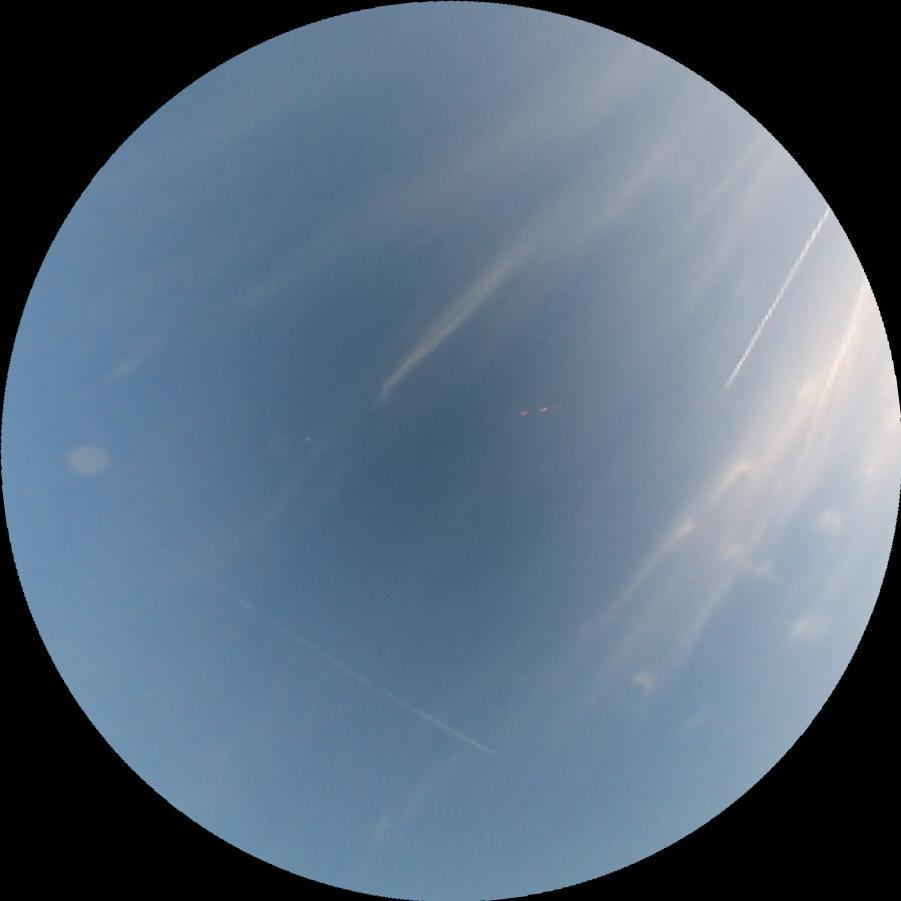contrail young: (216, 585, 495, 760), (722, 202, 833, 391)
